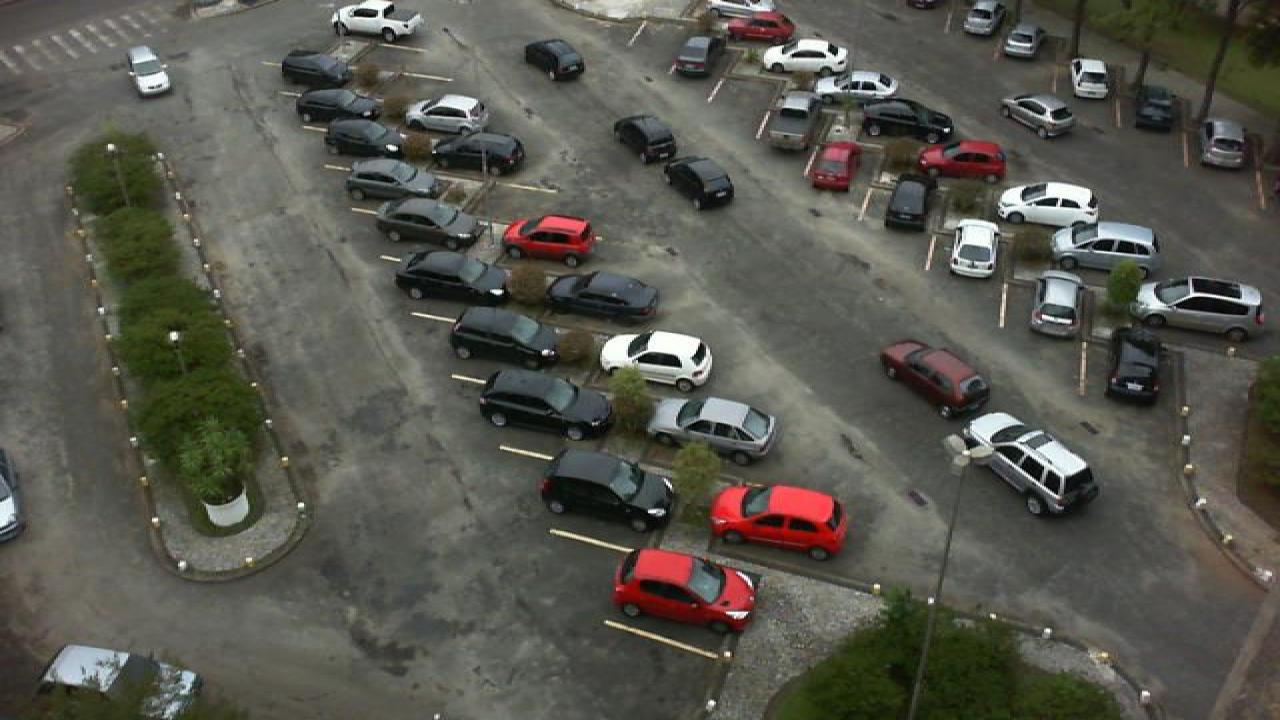Car: (960, 411, 1100, 516), (36, 643, 204, 720), (610, 547, 758, 633), (538, 448, 674, 531), (706, 484, 850, 559), (478, 369, 614, 442), (1130, 273, 1266, 343), (646, 396, 780, 466), (880, 338, 994, 420), (448, 306, 560, 372), (598, 330, 716, 391), (394, 249, 514, 308), (546, 269, 662, 326), (1050, 221, 1162, 274), (374, 197, 482, 250), (1104, 325, 1170, 403), (502, 214, 598, 266), (994, 180, 1100, 226), (860, 96, 956, 142), (432, 132, 528, 176), (1026, 271, 1088, 339), (344, 158, 438, 202), (916, 138, 1008, 182), (330, 0, 424, 43), (662, 154, 734, 209), (404, 92, 490, 135), (760, 38, 852, 75), (324, 118, 404, 160), (1000, 94, 1076, 138), (296, 87, 380, 125), (948, 218, 1000, 279), (762, 94, 816, 152), (280, 50, 360, 88), (804, 141, 864, 191), (614, 115, 676, 163), (1200, 118, 1252, 170), (816, 69, 900, 101), (524, 38, 586, 81), (724, 9, 796, 43), (884, 180, 930, 232), (126, 46, 172, 97), (1132, 84, 1182, 130), (670, 34, 714, 78), (1068, 56, 1112, 100), (960, 0, 1006, 36), (1000, 24, 1042, 60)
